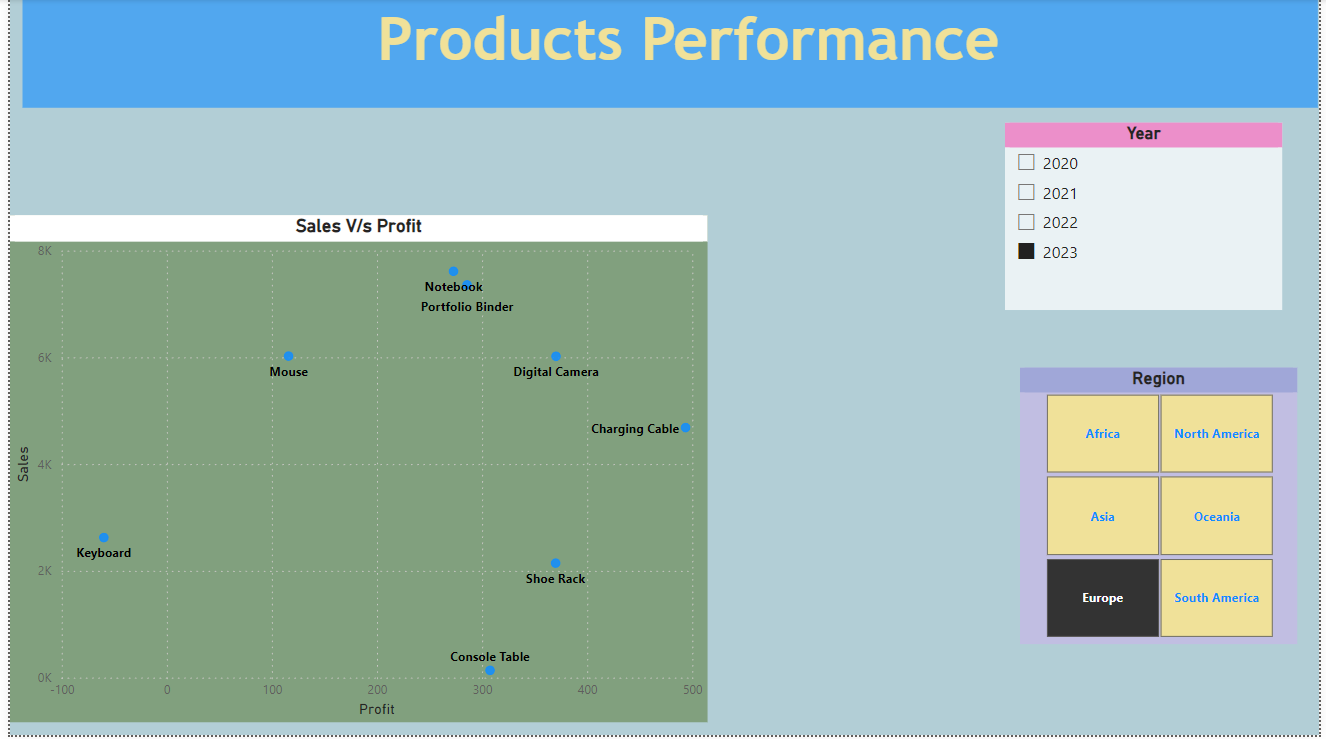

What the dashboard file says about the page in this screenshot:
{"tool":"powerbi","page":{"name":"  Products Performance","canvas":[1280,720],"ordinal":4},"visuals":[{"type":"slicer","title":"Year","fields":{"Values":["Sales Information.Order_Date.Variation.Date Hierarchy.Year"]},"box":[973.3,120.6,271.4,183.3],"z":0},{"type":"slicer","title":"Region","fields":{"Values":["Sales Information.Region"]},"box":[987.7,360.6,271.4,270.2],"z":1000},{"type":"scatterChart","title":"Sales V/s Profit","fields":{"X":["Sum(Sales Information.Profit)"],"Y":["Sum(Sales Information.Sales)"],"Category":["Sales Information.Product Information.Column4"]},"box":[0,211.9,682.7,496.4],"z":2000},{"type":"textbox","box":[12.1,0,1267.5,106.1],"z":3000}]}

Visuals, with their boxes in screenshot pixels (x1, y1, x2, y2), scaled from the page's 1280x720 canvas onto the 1326x739 screenshot:
"Year" slicer: box(1008, 124, 1289, 312)
"Region" slicer: box(1023, 370, 1304, 647)
"Sales V/s Profit" scatterChart: box(0, 217, 707, 727)
textbox: box(13, 0, 1325, 109)
